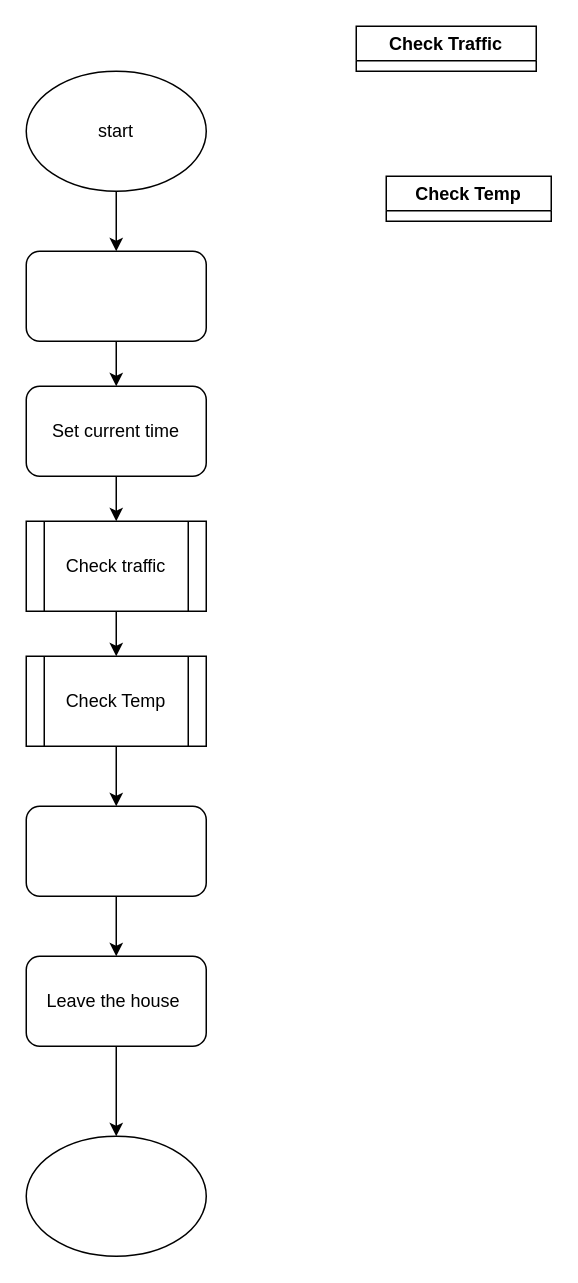
Image size: 578x1283. Some labels were removed from this diagram. Here are the shapes that lost their labels. From the top down, the centre of each, then its label:
At point (115, 295): "Set todays date".
At point (115, 850): "Eat breakfast".
At point (115, 1195): "end".
